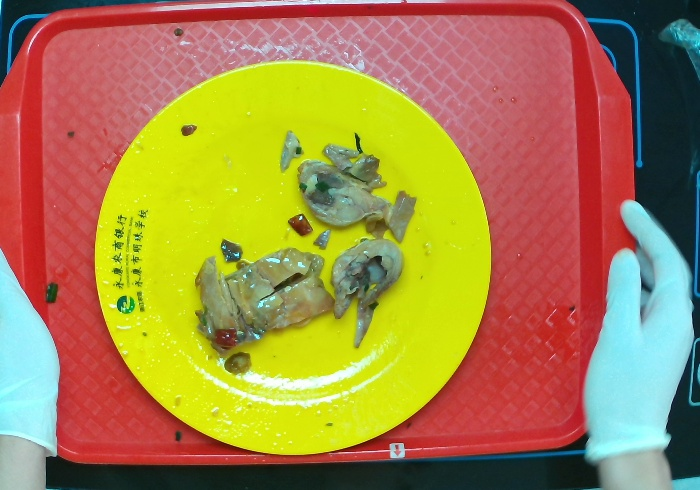YKMZ-Huang_Se_Mian_Pan: (92, 61, 493, 458)
